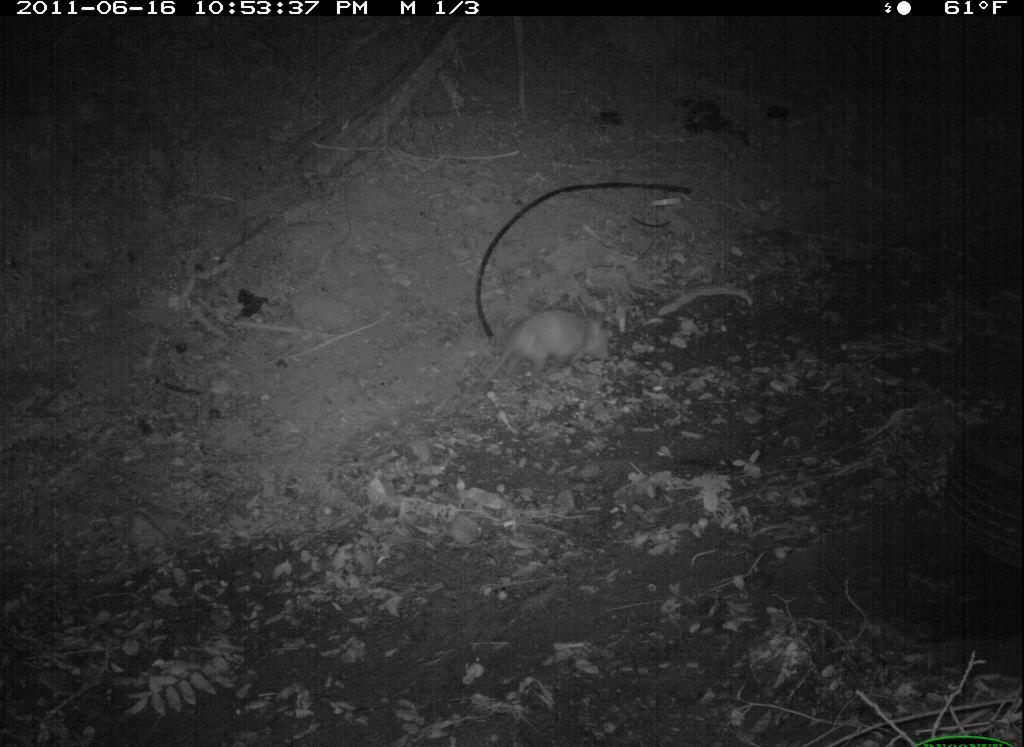opossum: (455, 299, 634, 409)
